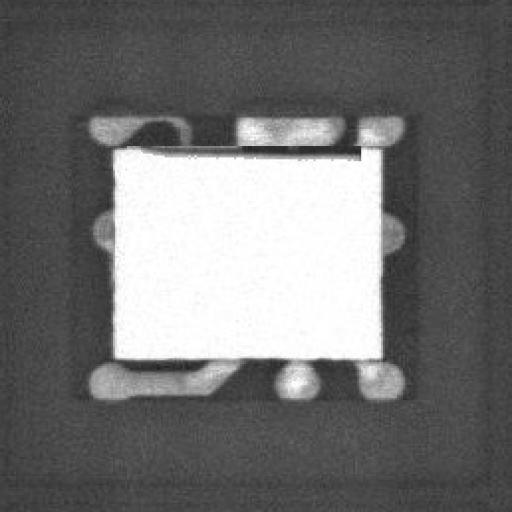DIE_BROKEN: (135, 140, 361, 160)
